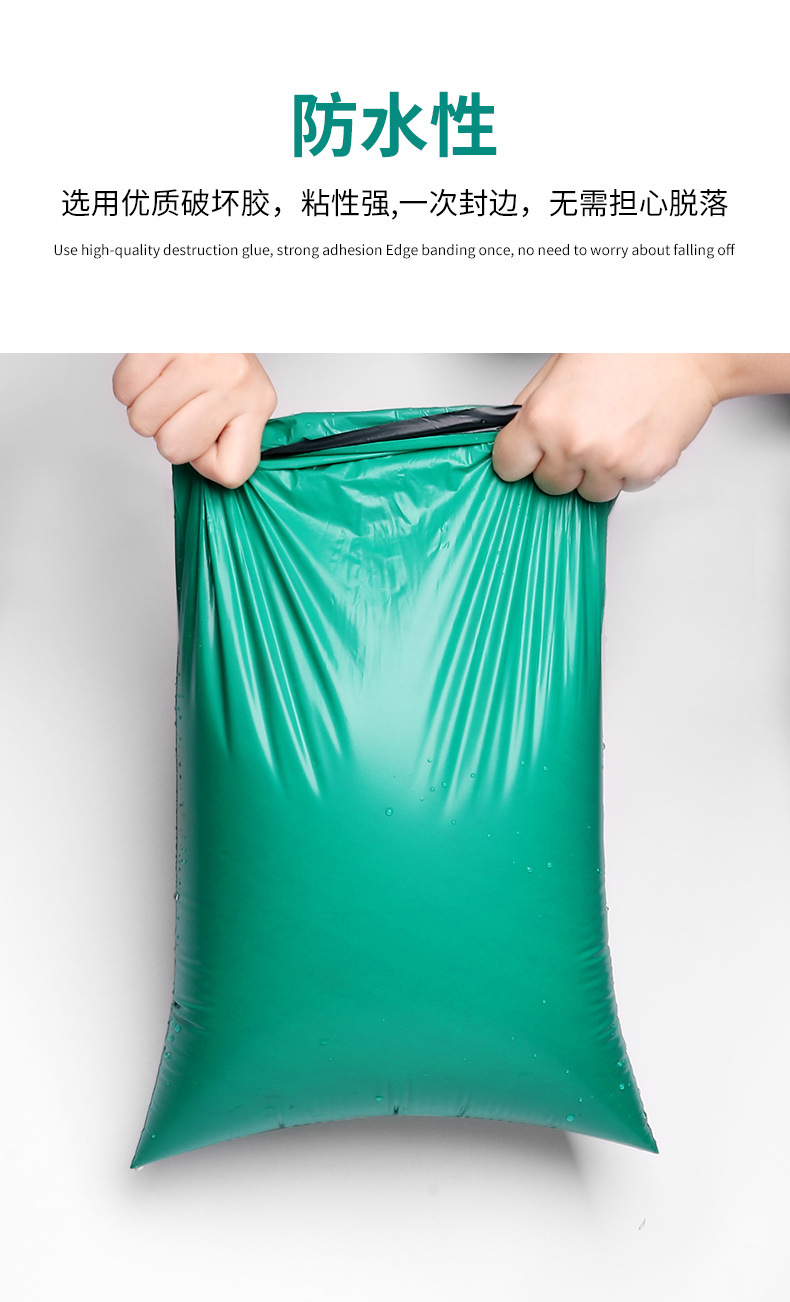塑料袋: (111, 402, 656, 1167)
